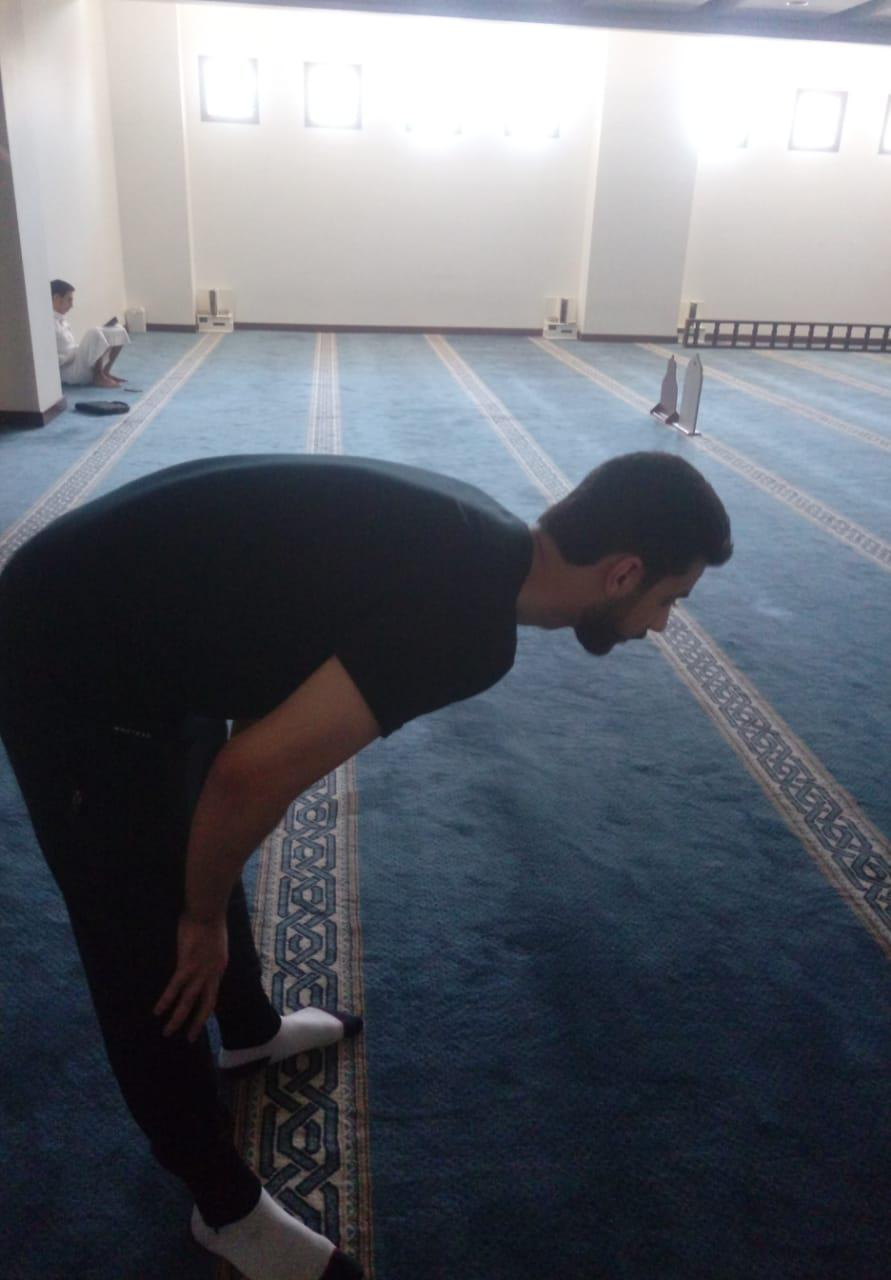ruku: (0, 450, 736, 1280)
